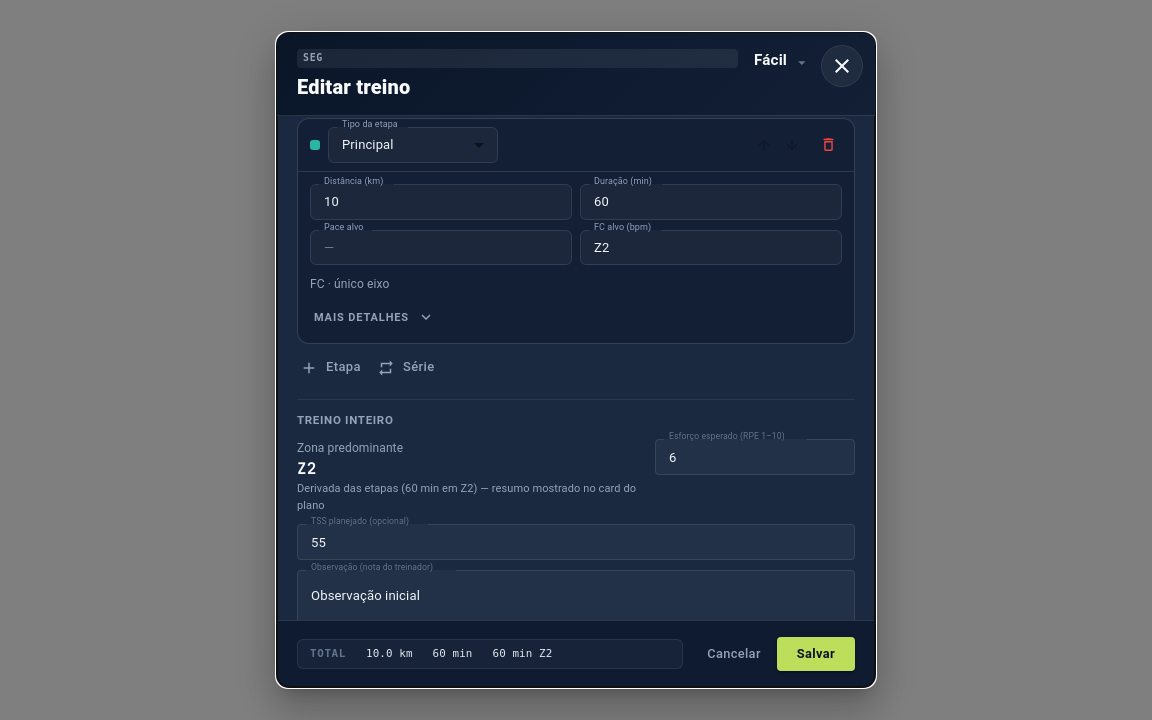
Scenario: TreinoEditDialog › série adicionada aparece com o contador de repetições
(page scrolled)
What coordinates should you click on to do the following:
click the button "Série"
I would click on:
 (407, 368)
Its box is [374, 352, 440, 383].
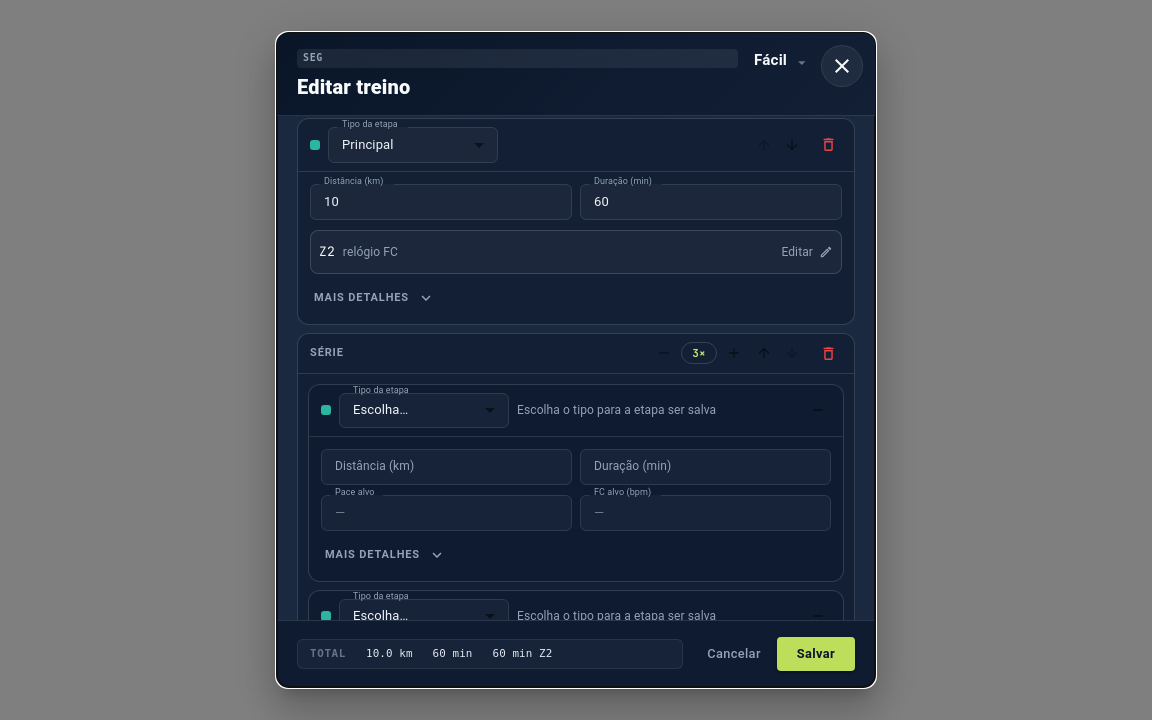
Result: the text with test id "repeticoes-display-1" reads "3×" at [681, 342, 717, 364]
